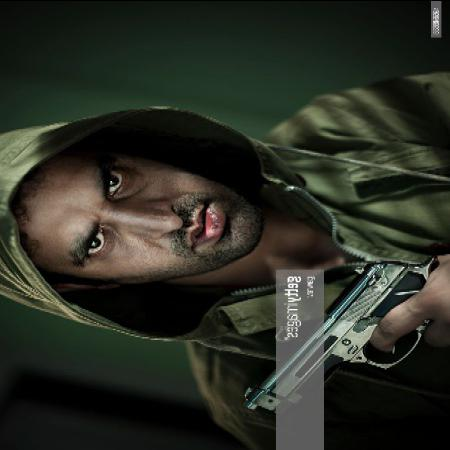Pistol: (244, 256, 438, 412)
